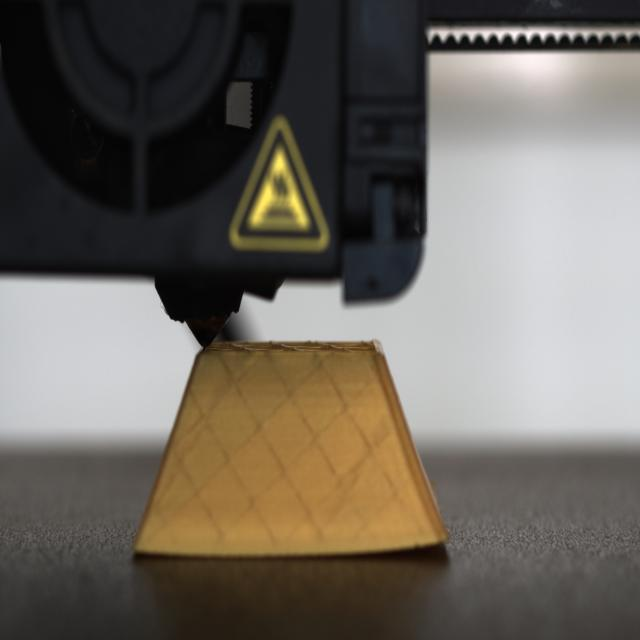Warping: (388, 532, 452, 561)
